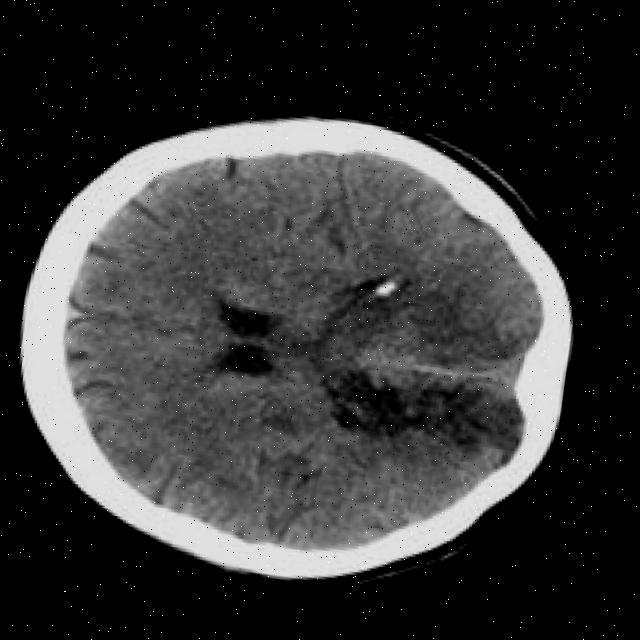NoTumor: (0, 75, 599, 612)
